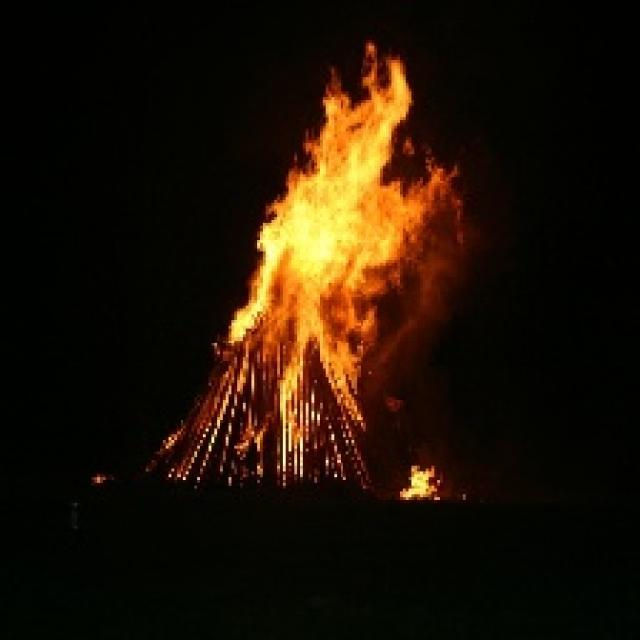Fire: (226, 46, 424, 353)
